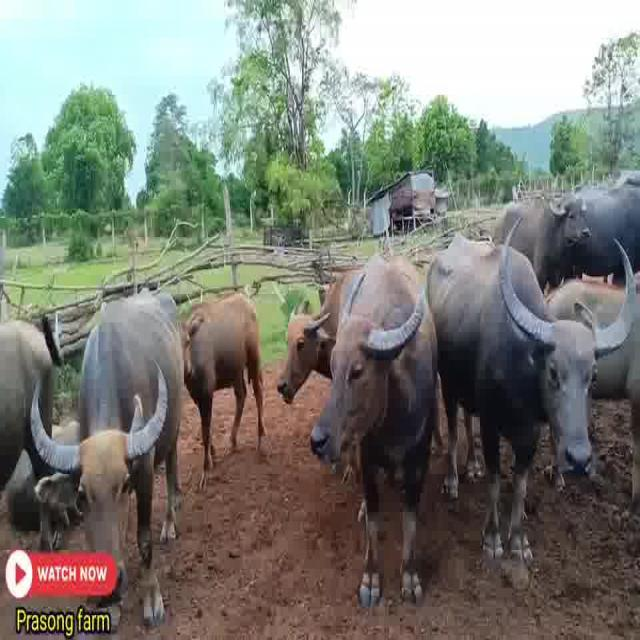buffalo: (419, 229, 596, 570), (293, 254, 455, 616), (76, 290, 191, 638), (175, 287, 270, 476), (0, 312, 61, 566)
